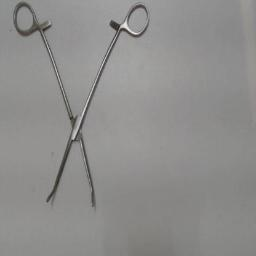Lahey Forceps: (6, 0, 154, 216)
